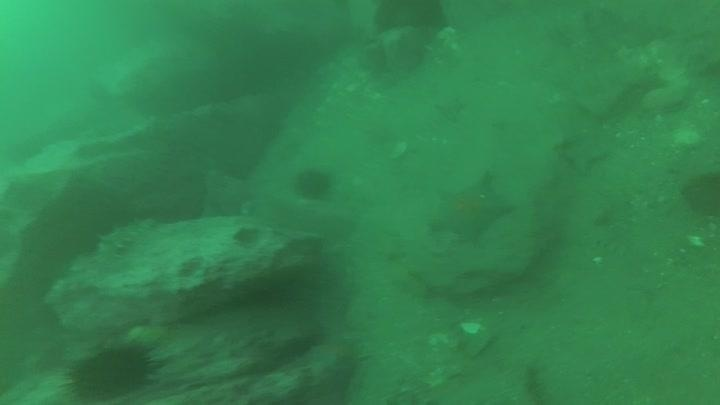echinus: (64, 339, 161, 402), (679, 168, 720, 220), (291, 165, 336, 203)
holothurian: (91, 215, 158, 268)
starfish: (426, 170, 516, 246), (553, 128, 612, 177)
